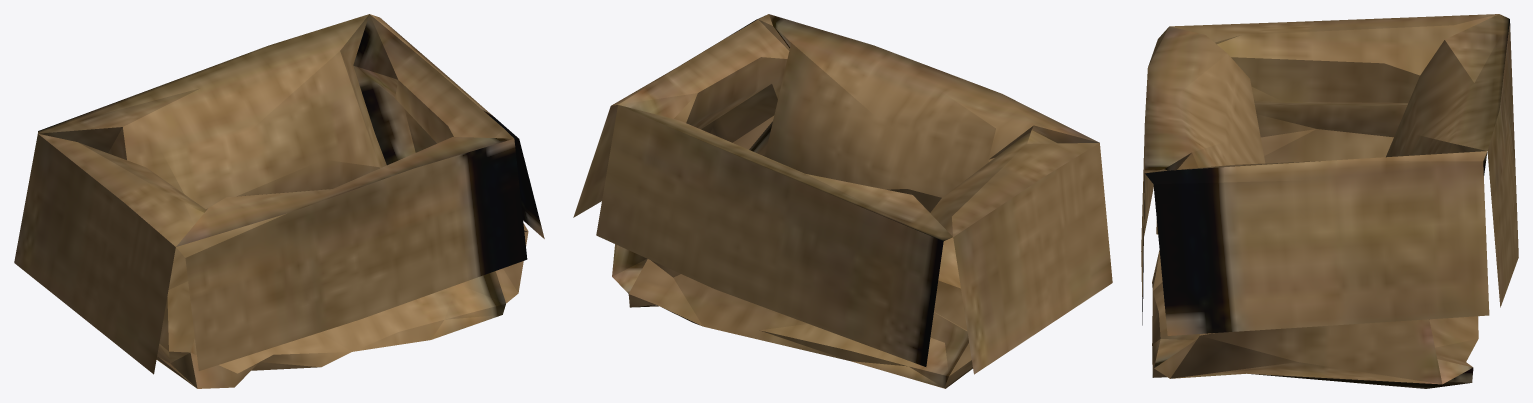
The model's file is box_crushed_open_lod1_web.glb.
3 views of the same model, side by side, from view 1: azimuth 30°, elevation 25°; view 2: azimuth 150°, elevation 25°; view 3: azimuth 270°, elevation 25° (orthographic). The views are drawn at different scales.
Visible parts, largest first — view 1: BoxCrushedOpen_Body; view 2: BoxCrushedOpen_Body; view 3: BoxCrushedOpen_Body.
Part boxes in pixels (bbox=[...]): BoxCrushedOpen_Body: bbox=[14, 14, 544, 388]; BoxCrushedOpen_Body: bbox=[573, 14, 1112, 388]; BoxCrushedOpen_Body: bbox=[1141, 14, 1518, 388].
Size of the model in its own units: 0.4796 by 0.2473 by 0.339.
1 material, 1 textured.
